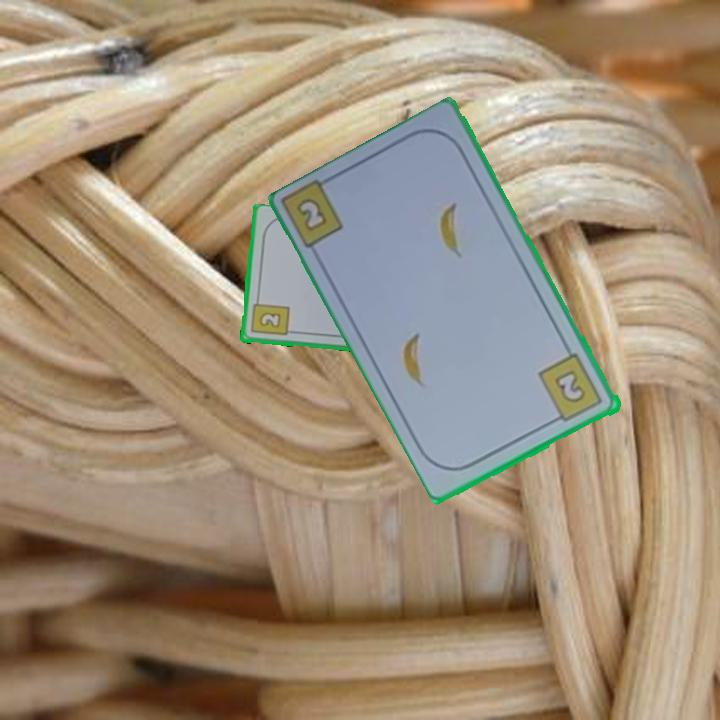2b: (535, 350, 606, 426), (247, 294, 291, 339), (296, 197, 328, 231)
